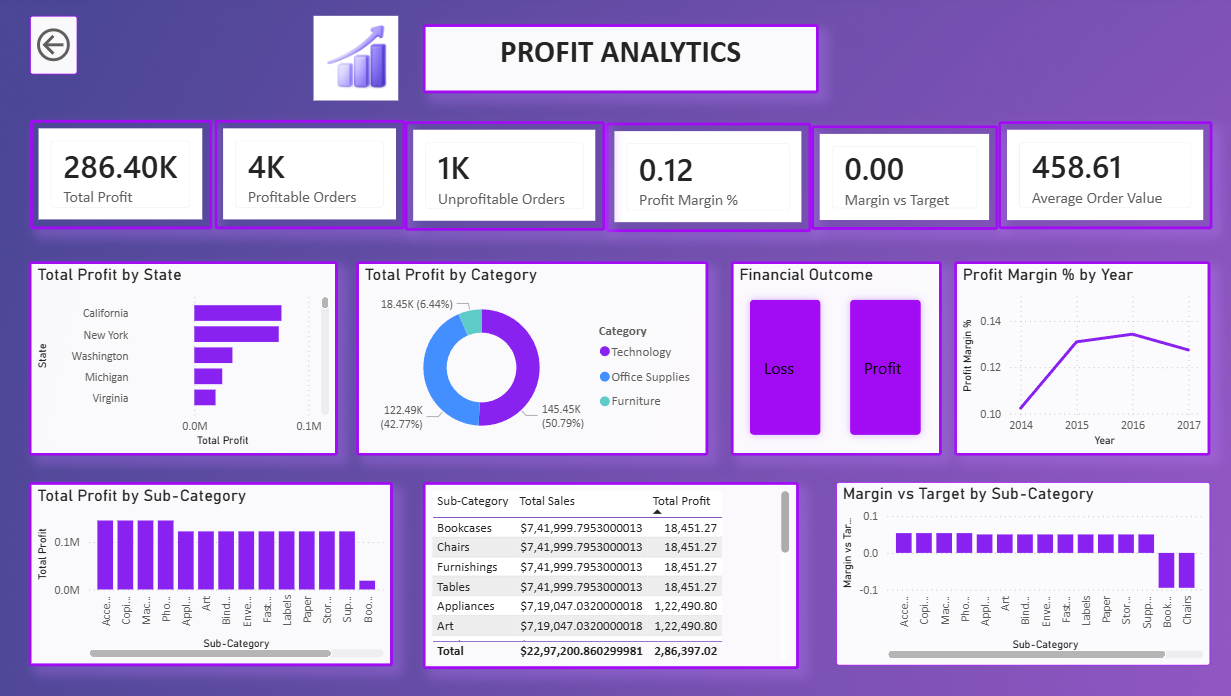

What the dashboard file says about the page in this screenshot:
{"tool":"powerbi","page":{"name":"Profit Analytics","canvas":[1280,720],"ordinal":2},"visuals":[{"type":"textbox","box":[437.3,29.5,404.5,70.4],"z":0},{"type":"cardVisual","fields":{"Data":["Category_details.Total Profit"]},"box":[36.1,127.4,185.9,111.9],"z":1000},{"type":"cardVisual","fields":{"Data":["Category_details.Profit Margin %"]},"box":[624.8,130.8,210,111.9],"z":2000},{"type":"cardVisual","fields":{"Data":["Category_details.Profitable Orders"]},"box":[225.5,127.4,194.5,111.9],"z":3000},{"type":"cardVisual","fields":{"Data":["Category_details.Unprofitable Orders"]},"box":[420,129.1,204.8,111.9],"z":4000},{"type":"clusteredBarChart","fields":{"Category":["Data.Region","Data.State","Data.City"],"Y":["Category_details.Total Profit"]},"box":[35.4,272,316,198.4],"z":5000},{"type":"clusteredColumnChart","fields":{"Category":["Category_details.Sub-Category"],"Y":["Category_details.Total Profit"]},"box":[36,497.8,371.7,188.3],"z":6000},{"type":"donutChart","fields":{"Category":["Category_details.Category","Category_details.Sub-Category","Data.Product ID"],"Y":["Category_details.Total Profit"]},"box":[370.1,272,359.8,197.9],"z":7000},{"type":"lineChart","fields":{"Category":["Data.Order Date.Variation.Date Hierarchy.Year","Data.Order Date.Variation.Date Hierarchy.Quarter","Data.Order Date.Variation.Date Hierarchy.Month","Data.Order Date.Variation.Date Hierarchy.Day"],"Y":["Category_details.Profit Margin %"]},"box":[981.1,272,261.6,197.9],"z":8000},{"type":"tableEx","fields":{"Values":["Category_details.Sub-Category","Category_details.Total Sales","Category_details.Total Profit"]},"box":[437.2,497.5,383.8,191.1],"z":9000},{"type":"advancedSlicerVisual","fields":{"Values":["Data.Financial Outcome"]},"box":[752.2,272,215.2,197.9],"z":10000},{"type":"actionButton","box":[36.8,21.3,48.2,59.5],"z":11000},{"type":"clusteredColumnChart","fields":{"Category":["Category_details.Sub-Category"],"Y":["Category_details.Margin vs Target"]},"box":[860.6,497.5,382.1,187.6],"z":12000},{"type":"cardVisual","fields":{"Data":["Category_details.Margin vs Target"]},"box":[834.8,132.5,191.1,106.7],"z":13000},{"type":"cardVisual","fields":{"Data":["Category_details.Average Order Value"]},"box":[1025.9,129.1,218.6,110.2],"z":14000},{"type":"image","box":[301.8,21.3,136,86.4],"z":15000}]}

Visuals, with their boxes in screenshot pixels (x1, y1, x2, y2), scaled from the page's 1280x720 canvas onto the 1231x696 screenshot:
textbox: (x1=421, y1=29, x2=810, y2=97)
cardVisual - Category_details.Total Profit: (x1=35, y1=123, x2=214, y2=231)
cardVisual - Category_details.Profit Margin %: (x1=601, y1=126, x2=803, y2=235)
cardVisual - Category_details.Profitable Orders: (x1=217, y1=123, x2=404, y2=231)
cardVisual - Category_details.Unprofitable Orders: (x1=404, y1=125, x2=601, y2=233)
clusteredBarChart - Data.Region x Data.State: (x1=34, y1=263, x2=338, y2=455)
clusteredColumnChart - Category_details.Sub-Category x Category_details.Total Profit: (x1=35, y1=481, x2=392, y2=663)
donutChart - Category_details.Category x Category_details.Sub-Category: (x1=356, y1=263, x2=702, y2=454)
lineChart - Data.Order Date.Variation.Date Hierarchy.Year x Data.Order Date.Variation.Date Hierarchy.Quarter: (x1=944, y1=263, x2=1195, y2=454)
tableEx - Category_details.Sub-Category x Category_details.Total Sales: (x1=420, y1=481, x2=790, y2=666)
advancedSlicerVisual - Data.Financial Outcome: (x1=723, y1=263, x2=930, y2=454)
actionButton: (x1=35, y1=21, x2=82, y2=78)
clusteredColumnChart - Category_details.Sub-Category x Category_details.Margin vs Target: (x1=828, y1=481, x2=1195, y2=662)
cardVisual - Category_details.Margin vs Target: (x1=803, y1=128, x2=987, y2=231)
cardVisual - Category_details.Average Order Value: (x1=987, y1=125, x2=1197, y2=231)
image: (x1=290, y1=21, x2=421, y2=104)
